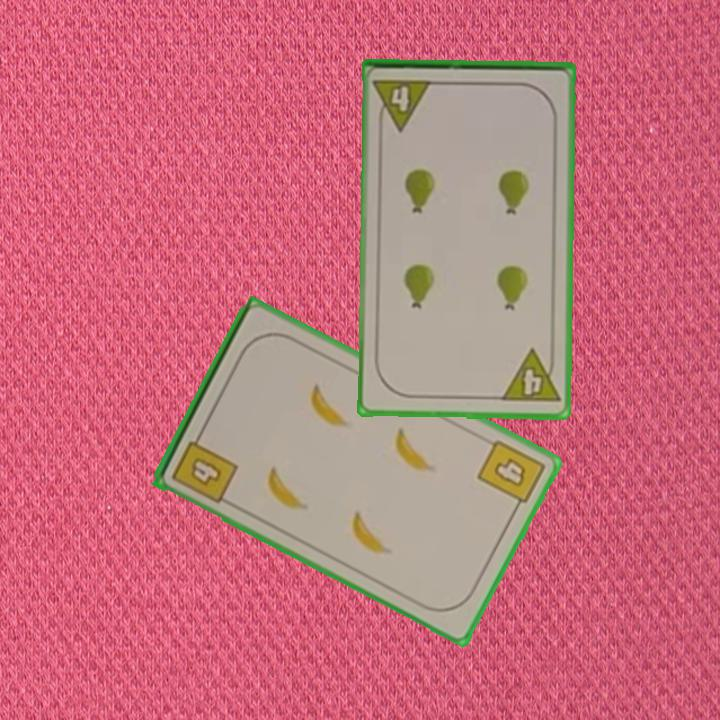4b: (473, 436, 548, 516), (168, 427, 241, 506)
4p: (497, 346, 563, 406), (370, 76, 435, 133)
